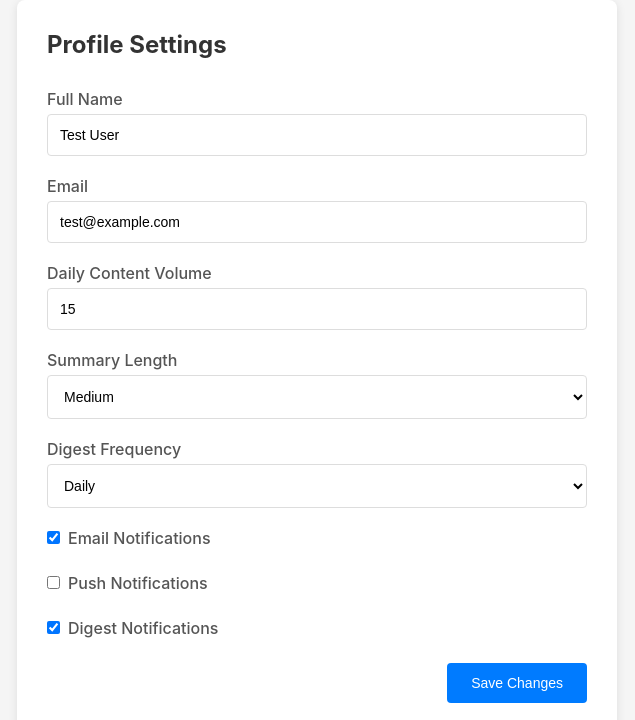
Test case: ProfileForm › displays success message on successful update
The width and height of the screenshot is (635, 720).
Replace the text in the field labelled "Full Name" with "Updated Name" at (317, 135), box [47,114,587,156]
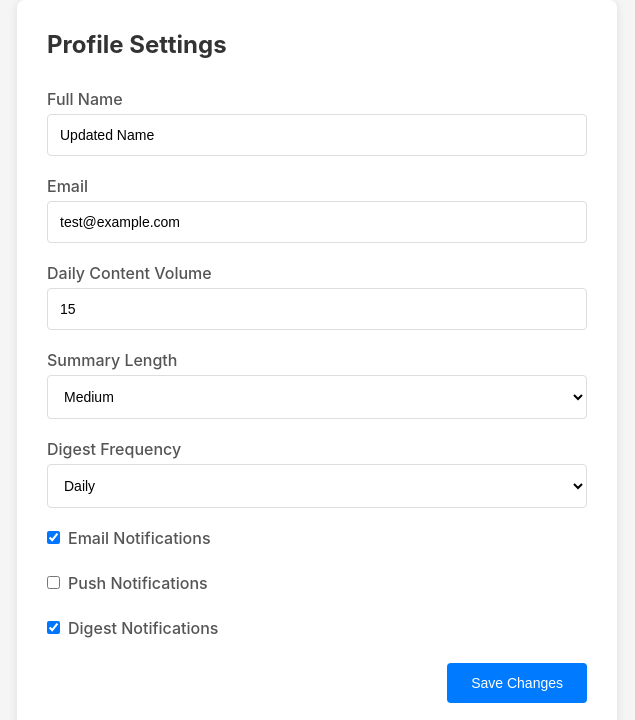
Click the button "Save Changes" at (517, 683), box [447,663,587,703]
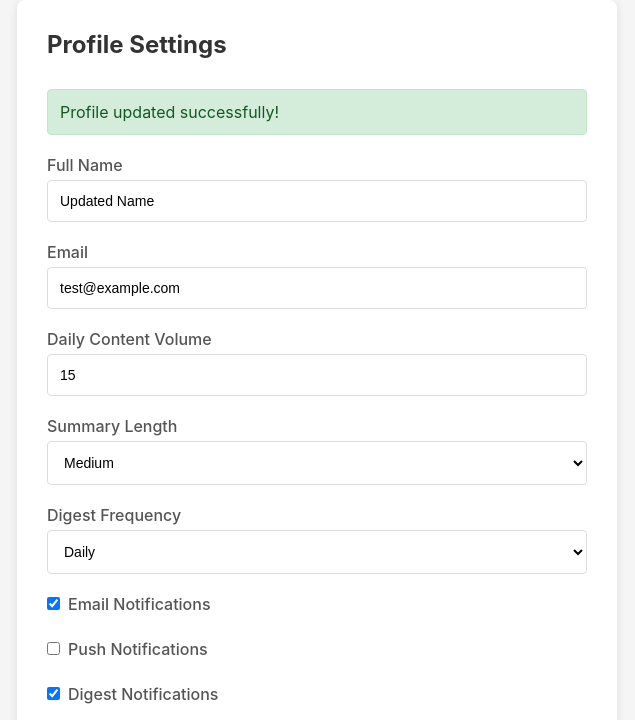
Expected: the text "Profile updated successfully!" is shown, [47,89,587,135]
